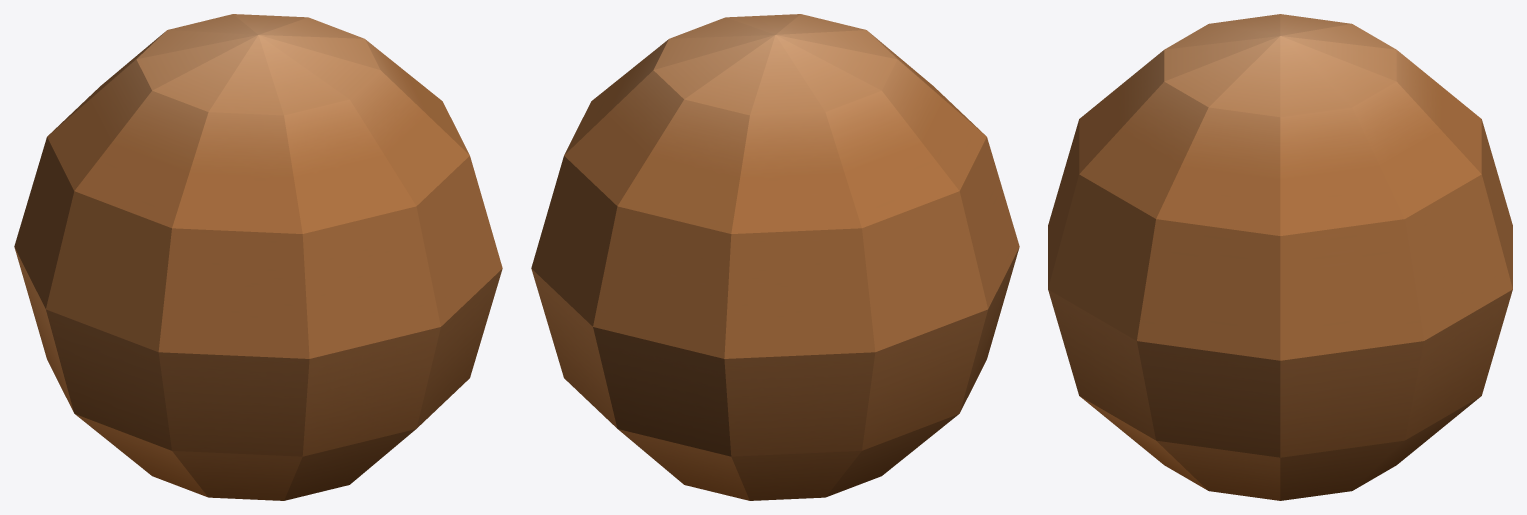
Rendered from PartiSphere.fbx.
The picture shows the model from 3 angles, left to right: view 1: azimuth 30°, elevation 25°; view 2: azimuth 150°, elevation 25°; view 3: azimuth 270°, elevation 25°; orthographic projection.
Parts seen in each view (by area): view 1: pSphere4; view 2: pSphere4; view 3: pSphere4.
Boxes of the visible parts, box(x1,y1,x2,y2) form: pSphere4: box(14, 14, 502, 500); pSphere4: box(531, 14, 1019, 500); pSphere4: box(1048, 14, 1512, 500).
Bounding box in the file's own units: 0.4 × 0.4 × 0.3804.
Materials: 1 (1 with a texture image).
